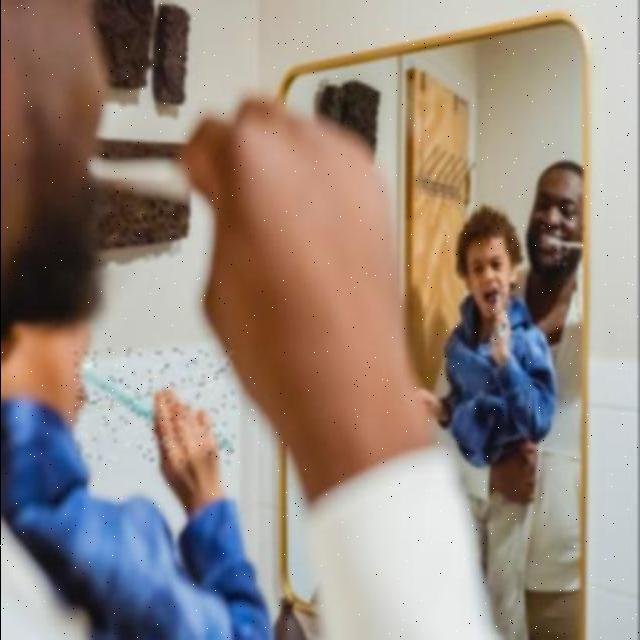toothbrush: (75, 348, 235, 462), (542, 224, 584, 266), (488, 286, 508, 350)
